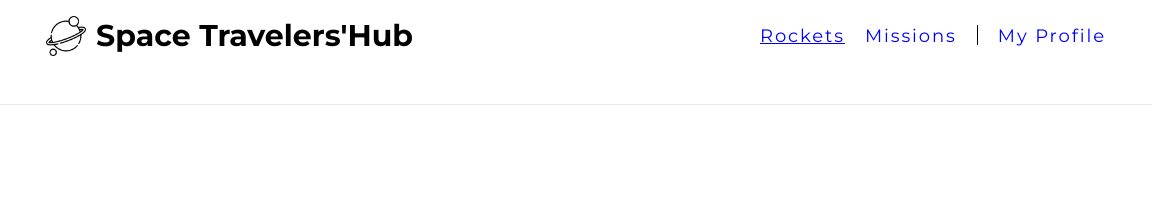
Test: simulate navigating  through Missions link
Click the link "Missions" at [911, 36], box [865,24,957,46]
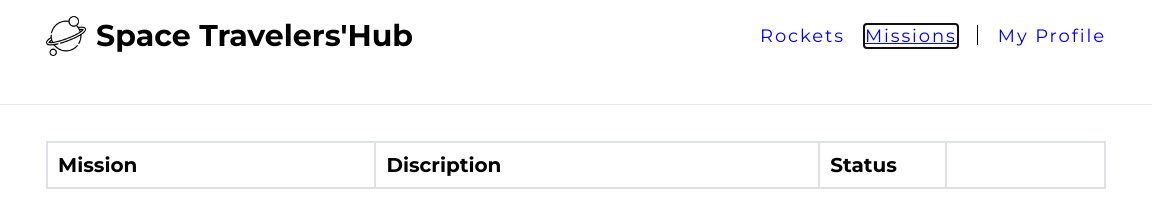
Expected: the table with test id "momo-id" is shown, [46,141,1106,189]
